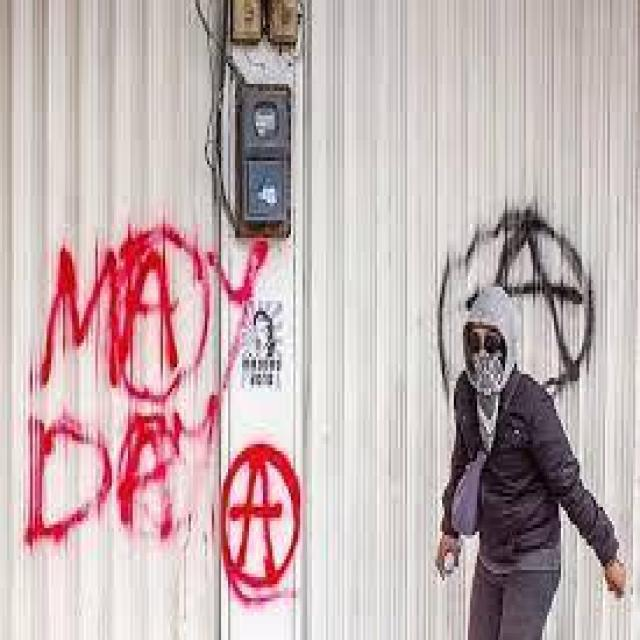nonspitting: (18, 234, 306, 609), (432, 200, 596, 412)
